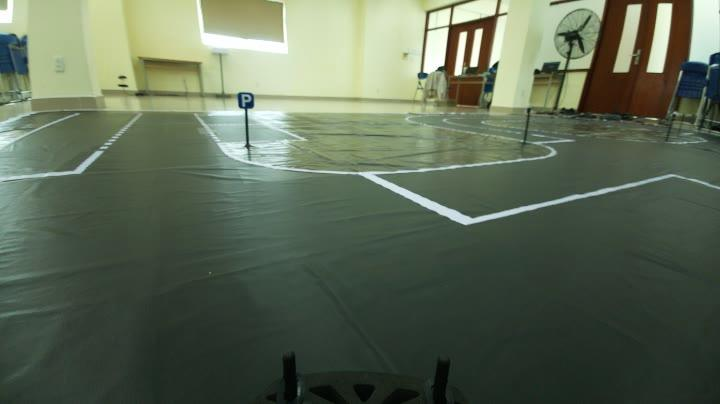parking: (233, 88, 261, 109)
